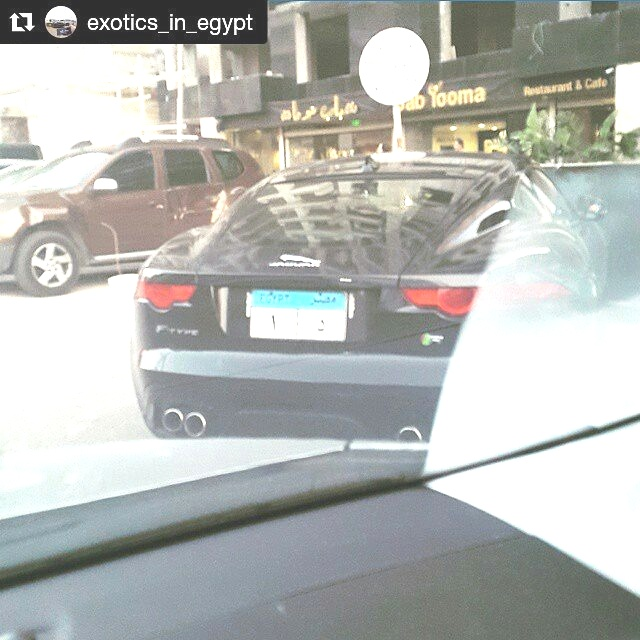License Plate: (246, 282, 352, 347)
